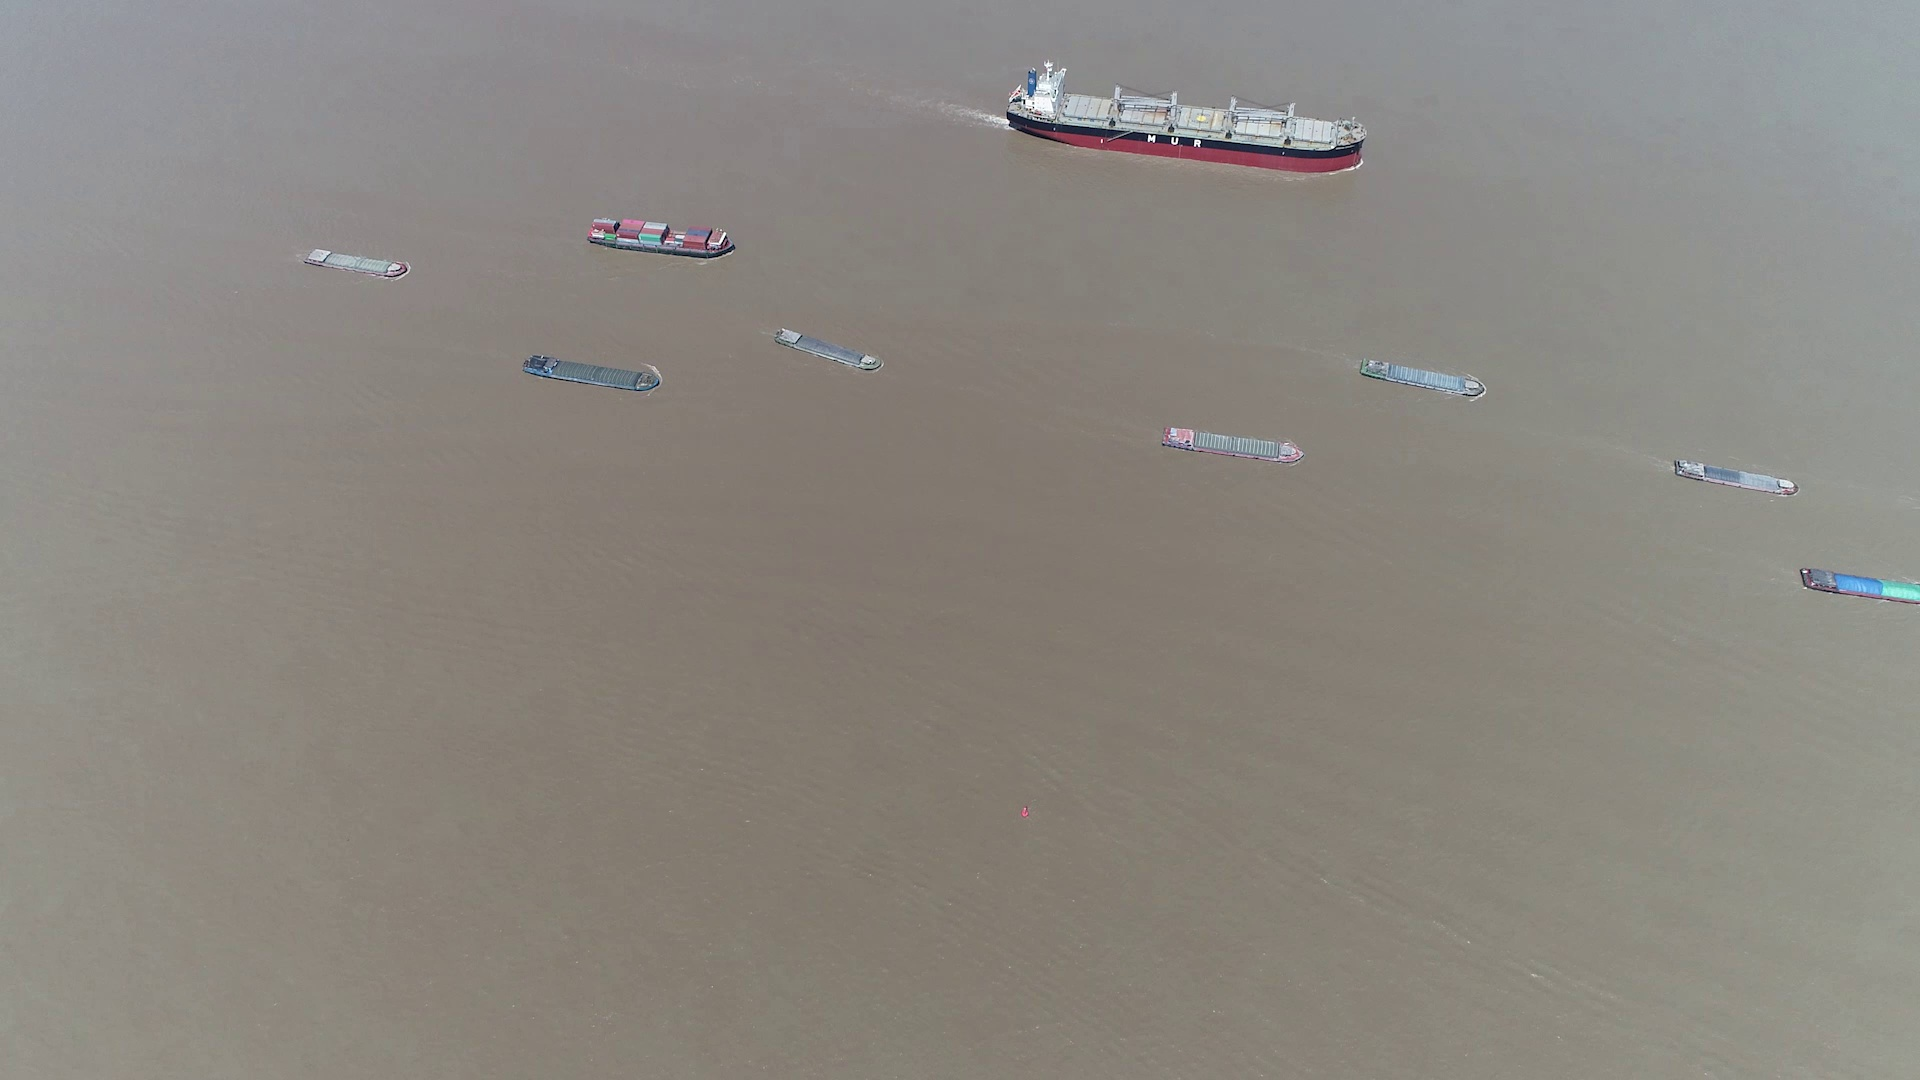ship: (1007, 63, 1365, 167), (587, 215, 736, 257), (1160, 425, 1300, 463), (1358, 357, 1485, 400), (522, 355, 659, 393), (1672, 458, 1797, 497), (771, 328, 884, 372), (1800, 567, 1920, 605), (305, 248, 411, 278)
